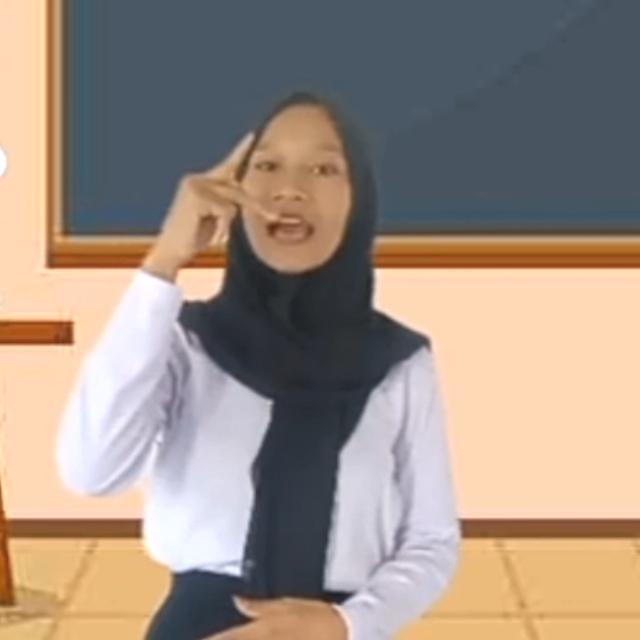K: (148, 123, 284, 273)
